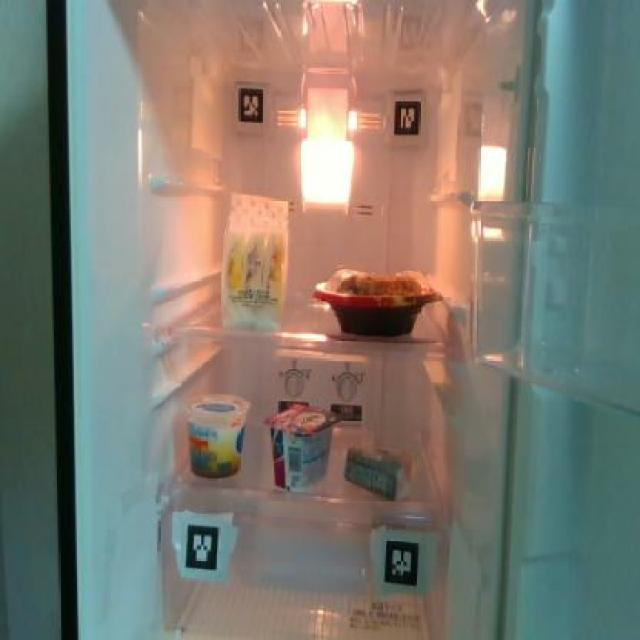bento: (312, 264, 443, 336)
pudding: (181, 386, 250, 479)
rice_ball: (340, 436, 422, 502)
sandwich: (220, 188, 292, 327)
yogurt: (260, 404, 338, 491)
